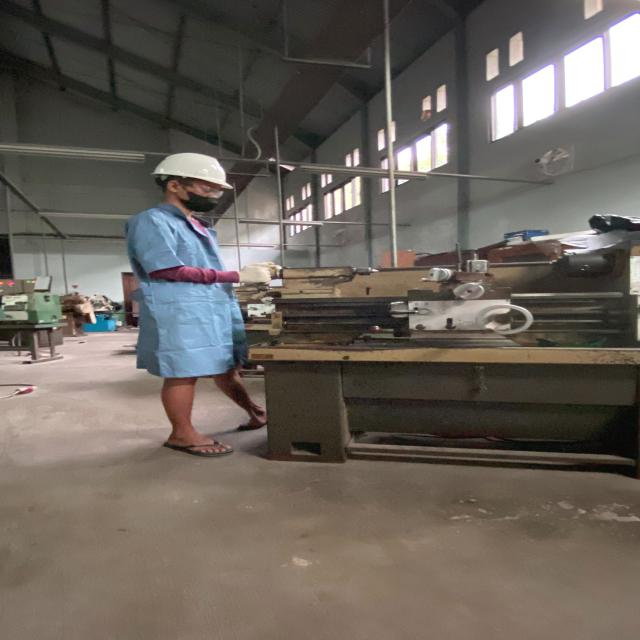face_mask: (169, 180, 228, 215)
glasses: (185, 180, 227, 198)
hand_glove: (232, 262, 278, 284)
head_helmet: (151, 152, 238, 192)
person: (125, 148, 289, 466)
